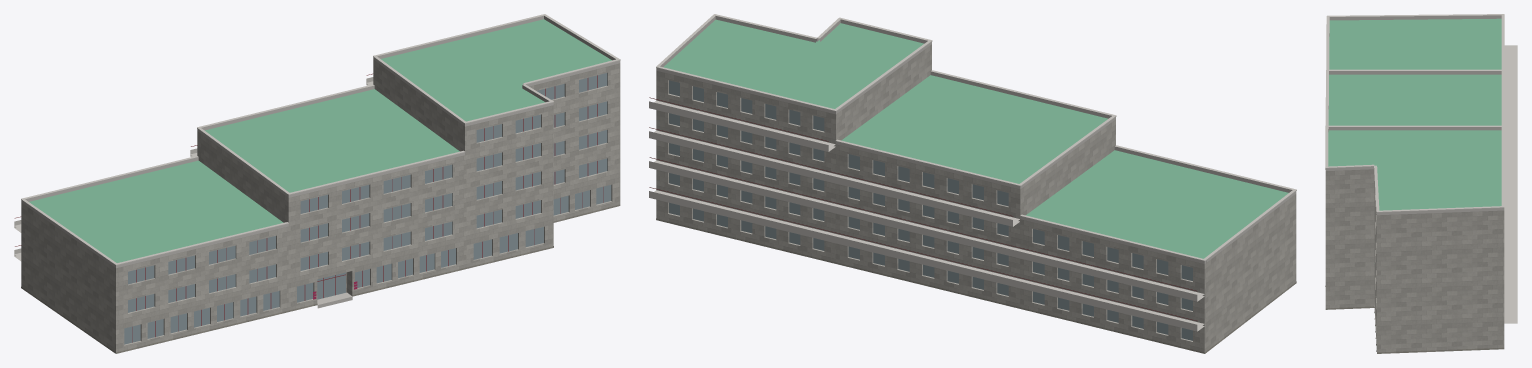
3 renders of one model, left to right at view 1: azimuth 30°, elevation 25°; view 2: azimuth 150°, elevation 25°; view 3: azimuth 270°, elevation 25°, orthographic. The views are drawn at different scales.
Parts seen in each view (by area): view 1: osm136188886__wall, osm136188886__roof, osm136188886__glass, osm136188886__parapet, osm136188886__trim, osm136188886__frame, osm136188886__base; view 2: osm136188886__wall, osm136188886__roof, osm136188886__trim, osm136188886__glass, osm136188886__parapet, osm136188886__frame, osm136188886__base; view 3: osm136188886__roof, osm136188886__wall, osm136188886__trim, osm136188886__parapet, osm136188886__base.
Boxes of the visible parts, <box> form: osm136188886__wall: <box>21,60,620,353</box>; osm136188886__roof: <box>29,19,611,262</box>; osm136188886__glass: <box>124,73,611,344</box>; osm136188886__parapet: <box>21,15,620,268</box>; osm136188886__trim: <box>14,14,620,265</box>; osm136188886__frame: <box>14,73,603,342</box>; osm136188886__base: <box>21,204,620,353</box>; osm136188886__wall: <box>656,44,1296,353</box>; osm136188886__roof: <box>663,19,1288,258</box>; osm136188886__trim: <box>649,14,1296,331</box>; osm136188886__glass: <box>669,80,1192,340</box>; osm136188886__parapet: <box>656,16,1296,263</box>; osm136188886__frame: <box>649,97,1197,321</box>; osm136188886__base: <box>656,218,1296,353</box>; osm136188886__roof: <box>1328,18,1501,210</box>; osm136188886__wall: <box>1325,169,1504,352</box>; osm136188886__trim: <box>1325,14,1517,323</box>; osm136188886__parapet: <box>1325,15,1504,215</box>; osm136188886__base: <box>1325,286,1504,353</box>.
Bounding box in the file's own units: 70.61 × 18.85 × 22.68.
Materials: 10 (2 with a texture image).
